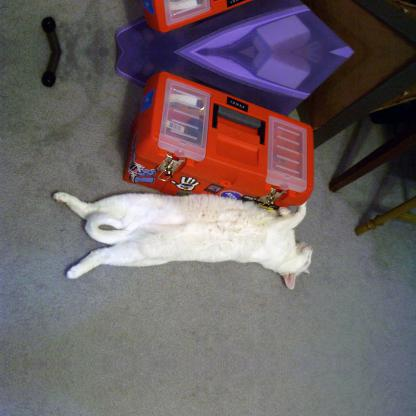Cat: (52, 193, 310, 289)
